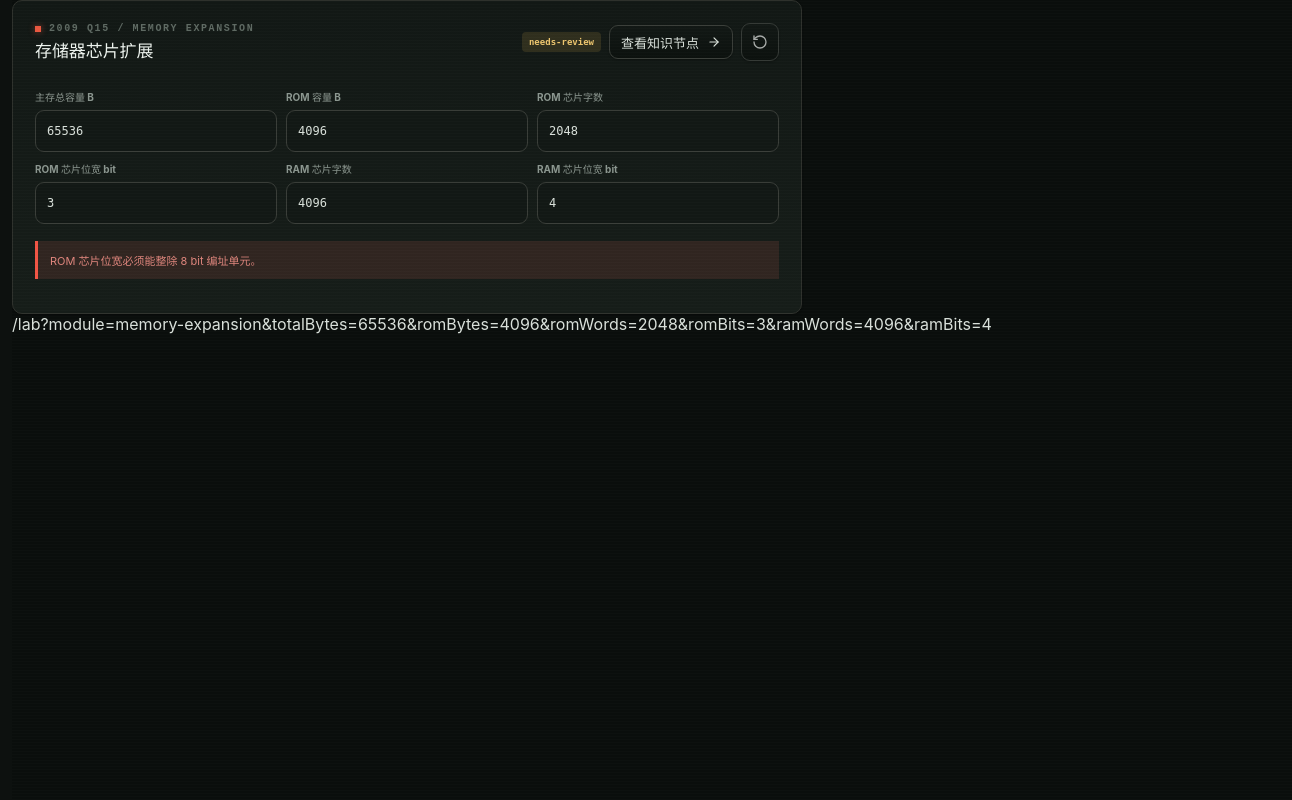
Scenario: MemoryExpansionLabPanel › fails closed for incompatible input and restores the canonical Q15 preset
This screenshot has width=1292, height=800.
Expected: the message shows "ROM 芯片位宽", left=50, top=254, right=262, bottom=268
Expected: the field labelled "总芯片数" is not shown
What coordinates should you click on to do the following:
click the button named "恢复 Q15 预设"
I would click on:
 (760, 42)
Its box is left=741, top=23, right=779, bottom=61.
(page scrolled)
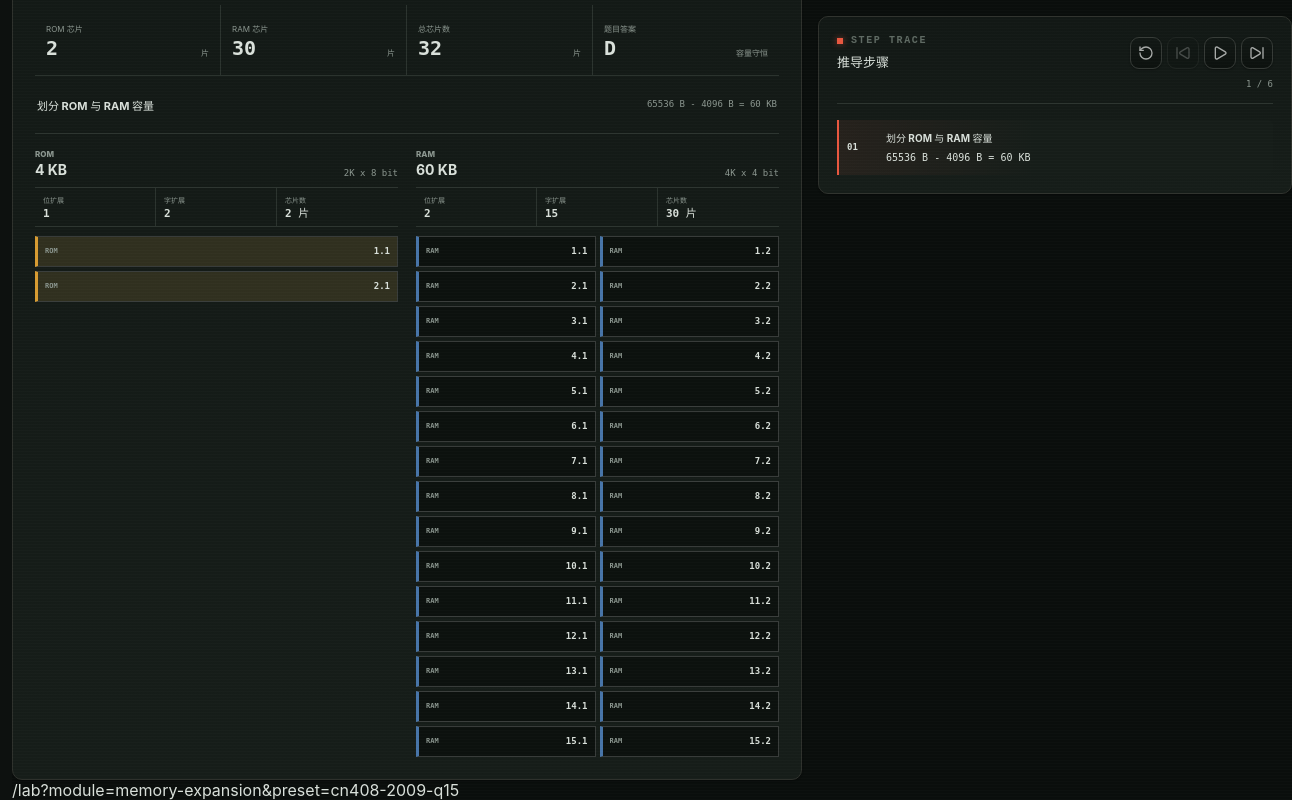
Expected: the message "ROM 芯片位宽必须能整除 8 bit 编址单元。" is gone
Expected: the text named "总芯片数" reads "32", left=418, top=36, right=442, bottom=60
Expected: the text named "current URL" reads "/lab?module=memory-expansion&preset=cn408-2009-q15", left=12, top=780, right=459, bottom=799
